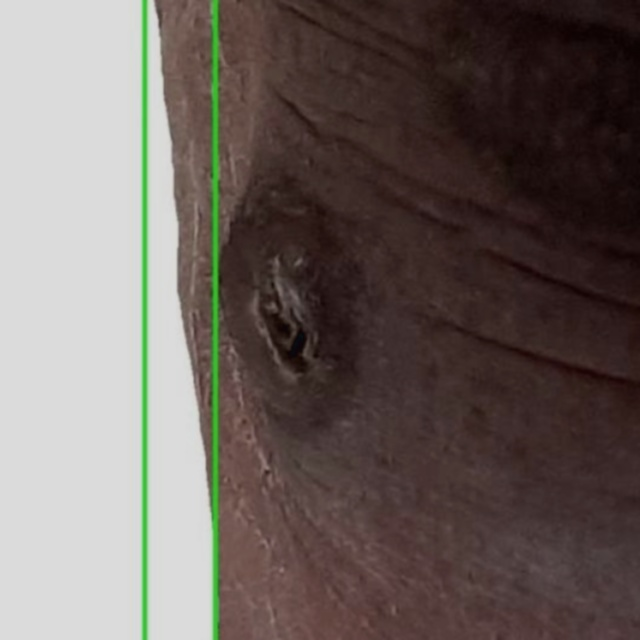Eczema: (144, 0, 639, 639), (0, 0, 215, 639)
